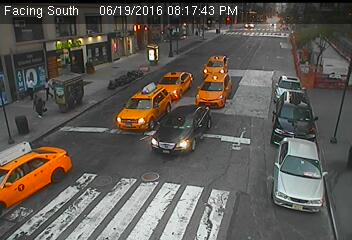neg: (1, 44, 25, 76), (69, 85, 85, 107), (60, 56, 75, 75), (54, 87, 68, 105), (83, 51, 95, 68), (12, 162, 24, 178)
pos: (17, 74, 39, 103), (37, 76, 58, 104), (27, 92, 47, 120)
